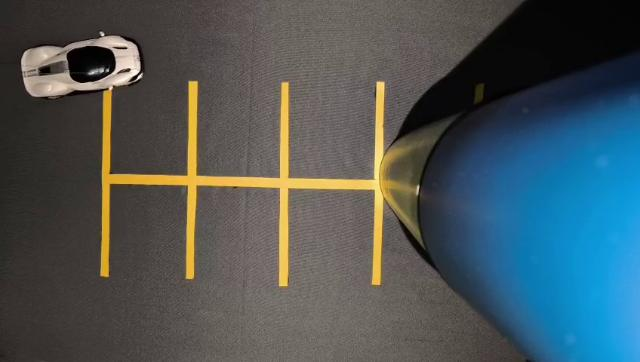toy_car: (12, 16, 165, 116)
